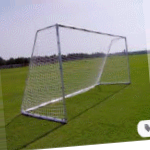goals: (20, 22, 134, 127)
